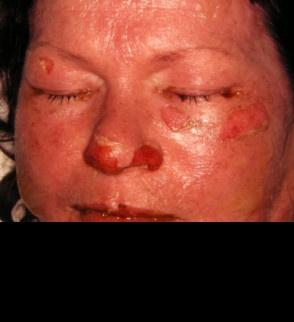SJS-TEN: (206, 95, 279, 152), (81, 133, 162, 182), (152, 105, 204, 146), (30, 45, 62, 77)
